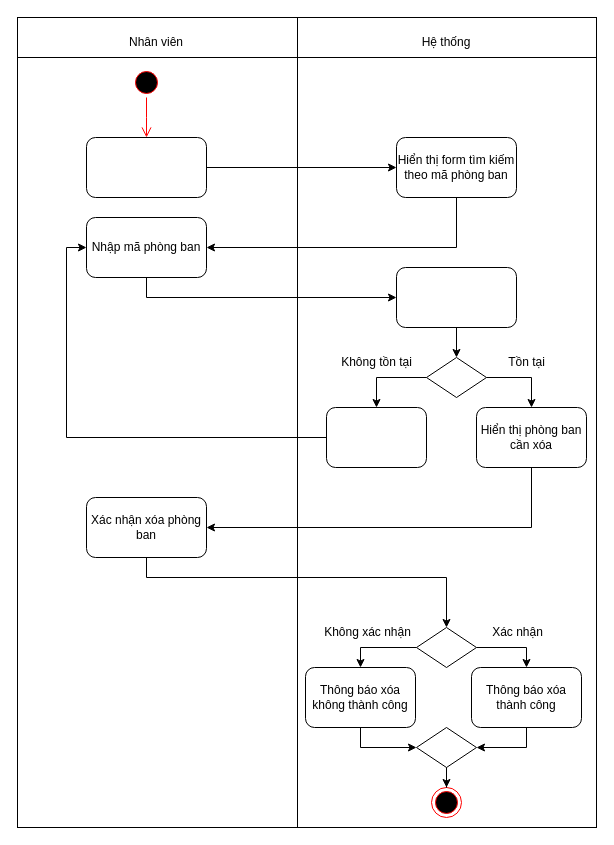
The diagram is 614 pixels wide and 845 high, and some of its shapes have lost their labels. The box of each missing label's shape, as (x1, y1, x2, y2) in pixels:
Kiểm tra mã phòng ban tồn tại: (396, 266, 516, 328)
Thông báo mã phòng ban không tồn tại: (326, 406, 426, 468)
Ấn chọn xóa phòng ban: (86, 136, 206, 198)
